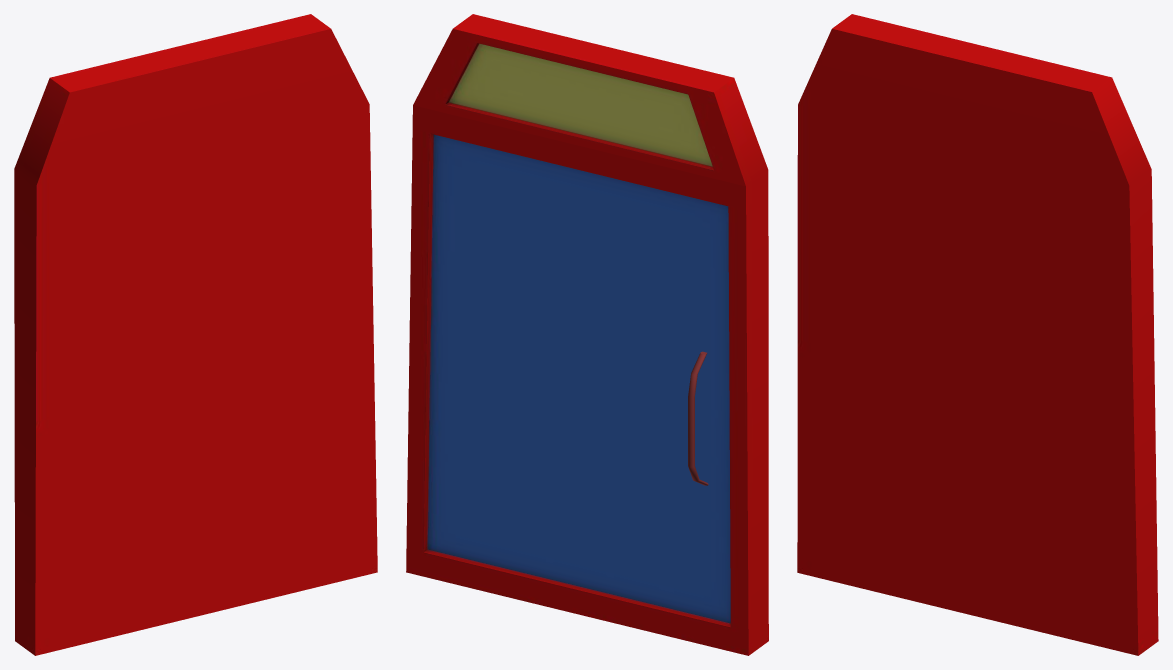
Rendered from PORTANORMAL.fbx.
The picture shows the model from 3 angles, left to right: view 1: azimuth 30°, elevation 25°; view 2: azimuth 150°, elevation 25°; view 3: azimuth 330°, elevation 25°; orthographic projection.
Visible parts, largest first — view 1: pCylinder6; view 2: pCylinder6; view 3: pCylinder6.
Part boxes in pixels (<box>): pCylinder6: <box>14,14,377,655</box>; pCylinder6: <box>406,14,768,655</box>; pCylinder6: <box>797,14,1158,655</box>.
Size of the model in its own units: 6.73 by 10.43 by 1.13.
2 materials, 1 textured.
